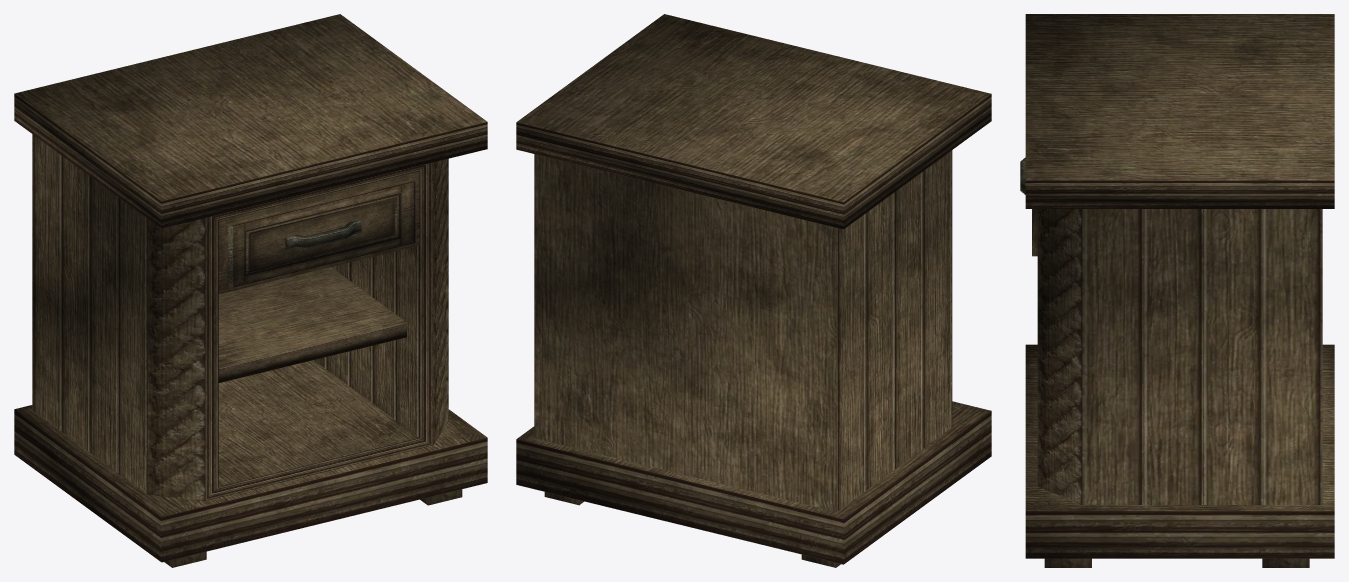
File: GS_VOB_BEDCASE_BROWN_02_2_KOZA.glb
3 renders of one model, left to right at view 1: azimuth 30°, elevation 25°; view 2: azimuth 150°, elevation 25°; view 3: azimuth 270°, elevation 25°, orthographic. The views are drawn at different scales.
Visible parts, largest first — view 1: Mesh; view 2: Mesh; view 3: Mesh.
Part boxes in pixels (x1=…): Mesh: x1=14, y1=14, x2=487, y2=567; Mesh: x1=516, y1=14, x2=991, y2=567; Mesh: x1=1020, y1=14, x2=1334, y2=567.
Bounding box in the file's own units: 0.8159 × 0.9034 × 0.6504.
5 materials, 5 textured.
